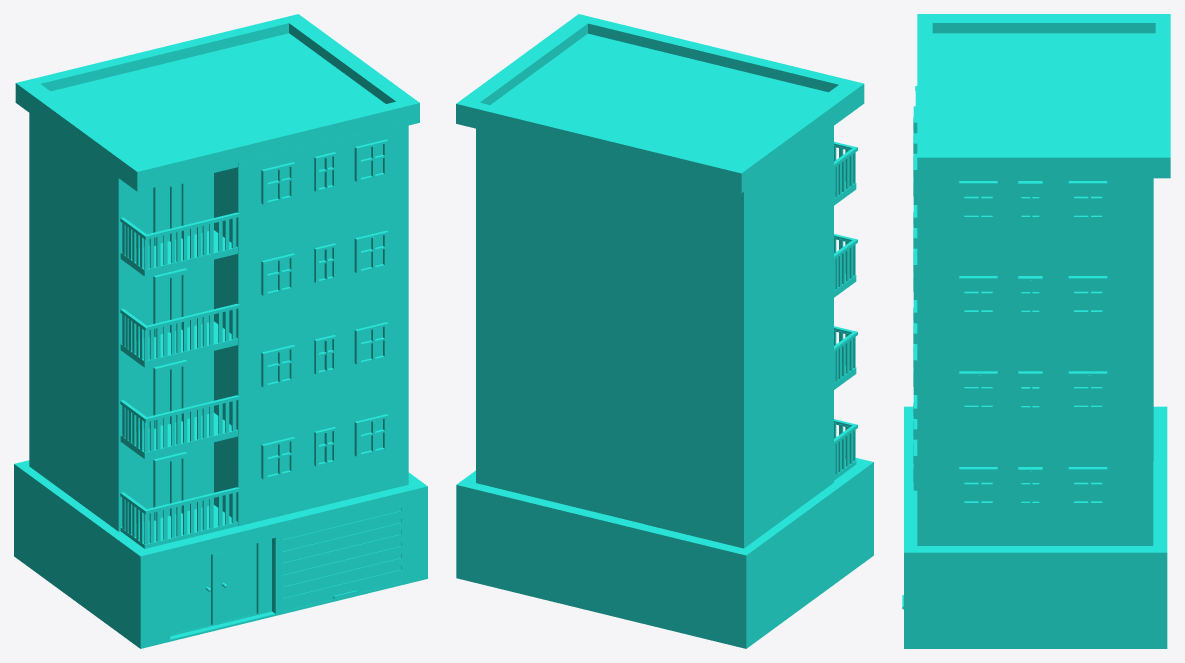
3 views of the same model, side by side, from view 1: azimuth 30°, elevation 25°; view 2: azimuth 150°, elevation 25°; view 3: azimuth 270°, elevation 25° (orthographic). The views are drawn at different scales.
Parts seen in each view (by area): view 1: pasted__pasted__pasted__pCube30 pasted__pasted__group pasted, pasted__pasted__floor_01 pasted__group group22 pasted__past. (×5), pasted__pasted__pasted__floor_01 pasted__pasted__group past. (×5), ground pasted__pCube30 pasted__floor01, pasted__floor_01 group pasted__floor01 pasted__pCube30, floor_01 floor01 pCube30, pasted__floor_01 group pasted__floor01 pasted__pasted__pCube (×2), floor_01 floor01 pasted__pCube30 group, ground pasted__pCube33 pasted__floor02, pasted__floor_01 group pasted__floor01 pasted__pCube33, floor_01 floor01 pCube33, pasted__floor_01 group pasted__floor01 pasted__pasted__paste (+17 smaller); view 2: pasted__pasted__pasted__pCube30 pasted__pasted__group pasted, ground pasted__pCube30 pasted__floor01, pasted__pasted__floor_01 pasted__group group22 pasted__past. (×2), pasted__pasted__pasted__floor_01 pasted__pasted__group past. (×2), pasted__floor_01 group pasted__floor01 pasted__pasted__pCube, floor_01 floor01 pasted__pCube30 group, pasted__floor_01 group pasted__floor01 pasted__pCube30, floor_01 floor01 pCube30; view 3: pasted__pasted__pasted__pCube30 pasted__pasted__group pasted, ground pasted__pCube30 pasted__floor01, pasted__pasted__floor_01 pasted__group group22 pasted__past. (×3), pasted__floor_01 group pasted__floor01 pasted__pCube30, pasted__pasted__pasted__floor_01 pasted__pasted__group past. (×3), floor_01 floor01 pCube30, pasted__floor_01 group pasted__pasted__pasted__pasted__pCube (×2), floor_01 pasted__pasted__pasted__pasted__pCube33, pasted__floor_01 group pasted__pasted__pasted__pasted__paste, floor_01 pasted__pasted__pasted__pCube33, pasted__pasted__floor_01 pasted__group group22 pasted__past, pasted__pasted__pasted__floor_01 pasted__pasted__group past (+1 smaller).
Part boxes in pixels (left/top/right/bottom): pasted__pasted__pasted__pCube30 pasted__pasted__group pasted: left=15, top=14, right=419, bottom=191; pasted__pasted__floor_01 pasted__group group22 pasted__past. (×5): left=29, top=194, right=408, bottom=367; pasted__pasted__pasted__floor_01 pasted__pasted__group past. (×5): left=29, top=113, right=408, bottom=276; ground pasted__pCube30 pasted__floor01: left=14, top=460, right=427, bottom=648; pasted__floor_01 group pasted__floor01 pasted__pCube30: left=214, top=304, right=408, bottom=437; floor_01 floor01 pCube30: left=214, top=396, right=408, bottom=526; pasted__floor_01 group pasted__floor01 pasted__pasted__pCube (×2): left=29, top=285, right=295, bottom=441; floor_01 floor01 pasted__pCube30 group: left=29, top=377, right=213, bottom=531; ground pasted__pCube33 pasted__floor02: left=170, top=538, right=271, bottom=636; pasted__floor_01 group pasted__floor01 pasted__pCube33: left=153, top=360, right=187, bottom=428; floor_01 floor01 pCube33: left=153, top=452, right=187, bottom=520; pasted__floor_01 group pasted__floor01 pasted__pasted__paste: left=120, top=413, right=237, bottom=458; pasted__pasted__pasted__pCube30 pasted__pasted__group pasted: left=456, top=14, right=864, bottom=193; ground pasted__pCube30 pasted__floor01: left=456, top=458, right=873, bottom=648; pasted__pasted__floor_01 pasted__group group22 pasted__past. (×2): left=476, top=207, right=833, bottom=365; pasted__pasted__pasted__floor_01 pasted__pasted__group past. (×2): left=476, top=126, right=833, bottom=273; pasted__floor_01 group pasted__floor01 pasted__pasted__pCube: left=644, top=299, right=833, bottom=457; floor_01 floor01 pasted__pCube30 group: left=644, top=392, right=833, bottom=548; pasted__floor_01 group pasted__floor01 pasted__pCube30: left=476, top=301, right=644, bottom=435; floor_01 floor01 pCube30: left=476, top=393, right=644, bottom=523; pasted__pasted__pasted__pCube30 pasted__pasted__group pasted: left=917, top=14, right=1170, bottom=178; ground pasted__pCube30 pasted__floor01: left=904, top=406, right=1167, bottom=648; pasted__pasted__floor_01 pasted__group group22 pasted__past. (×3): left=917, top=263, right=1153, bottom=359; pasted__floor_01 group pasted__floor01 pasted__pCube30: left=917, top=358, right=1153, bottom=454; pasted__pasted__pasted__floor_01 pasted__pasted__group past. (×3): left=917, top=178, right=1153, bottom=264; floor_01 floor01 pCube30: left=917, top=454, right=1153, bottom=545; pasted__floor_01 group pasted__pasted__pasted__pasted__pCube (×2): left=959, top=371, right=1042, bottom=408; floor_01 pasted__pasted__pasted__pasted__pCube33: left=1068, top=467, right=1107, bottom=504; pasted__floor_01 group pasted__pasted__pasted__pasted__paste: left=1068, top=371, right=1107, bottom=408; floor_01 pasted__pasted__pasted__pCube33: left=959, top=467, right=997, bottom=504; pasted__pasted__floor_01 pasted__group group22 pasted__past: left=959, top=276, right=997, bottom=313; pasted__pasted__pasted__floor_01 pasted__pasted__group past: left=959, top=181, right=997, bottom=218.
Size of the model in its own units: 22.11 by 35.91 by 17.16.
